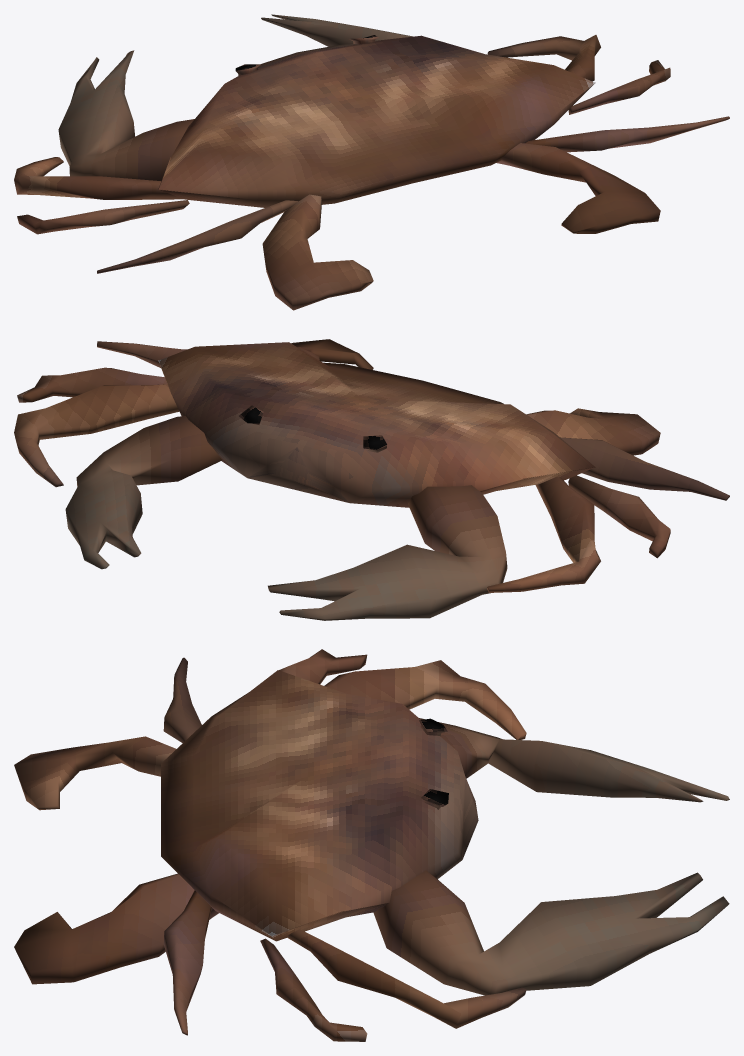
Rendered from Crab.fbx.
3 renders of one model, top to bottom at view 1: azimuth 30°, elevation 25°; view 2: azimuth 150°, elevation 25°; view 3: azimuth 270°, elevation 25°, orthographic. The views are drawn at different scales.
Visible parts, largest first — view 1: Crab; view 2: Crab; view 3: Crab.
Part boxes in pixels (left/top/right/bottom): Crab: left=14, top=14, right=729, bottom=310; Crab: left=14, top=339, right=729, bottom=620; Crab: left=14, top=649, right=729, bottom=1041.
Size of the model in its own units: 61.61 by 9.68 by 49.18.
